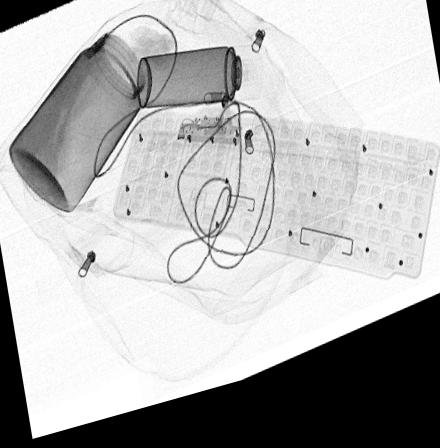Sprayer: (137, 56, 263, 116)
